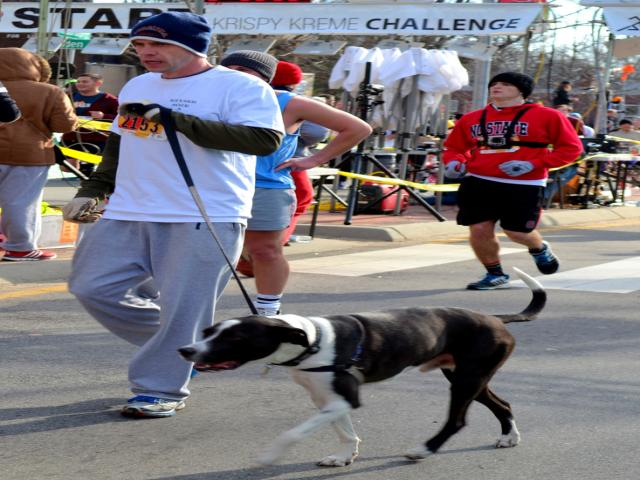Dog: (174, 266, 551, 466)
